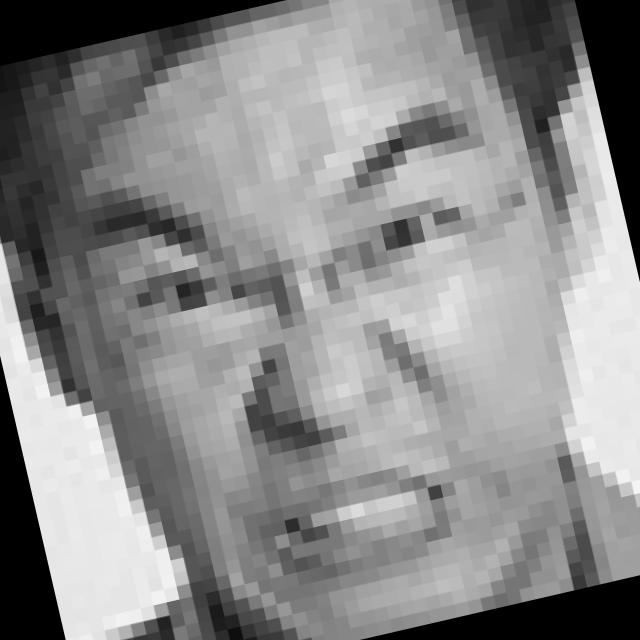angry: (78, 70, 563, 628)
